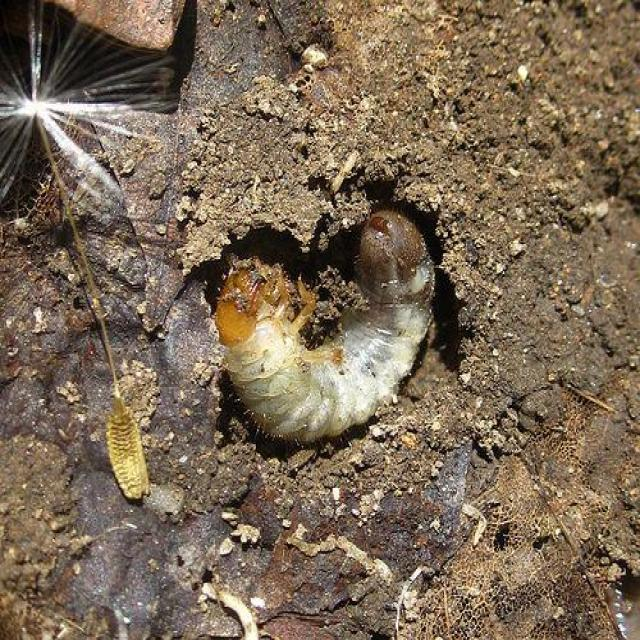Grub-Adult-: (206, 208, 442, 451)
